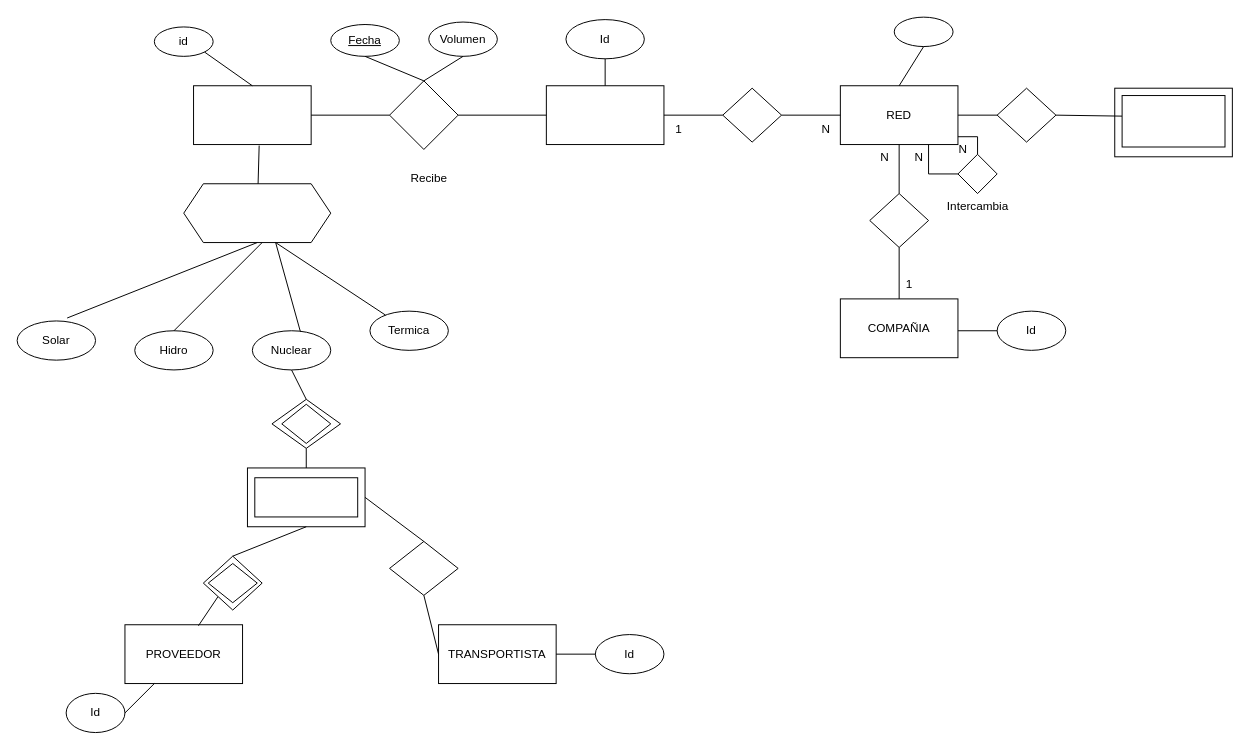
This 1250x750 diagram has some shape labels left out. Each missing label, with the box of its shape:
Codigo: (893, 16, 953, 47)
COMPRA: (254, 477, 358, 517)
EST. PRIMARIA: (545, 85, 664, 145)
LINEA: (1121, 95, 1225, 147)
Productor: (193, 85, 311, 145)
Tipo: (183, 183, 331, 243)
